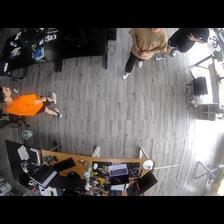normal: (120, 27, 167, 80), (1, 85, 60, 118)
